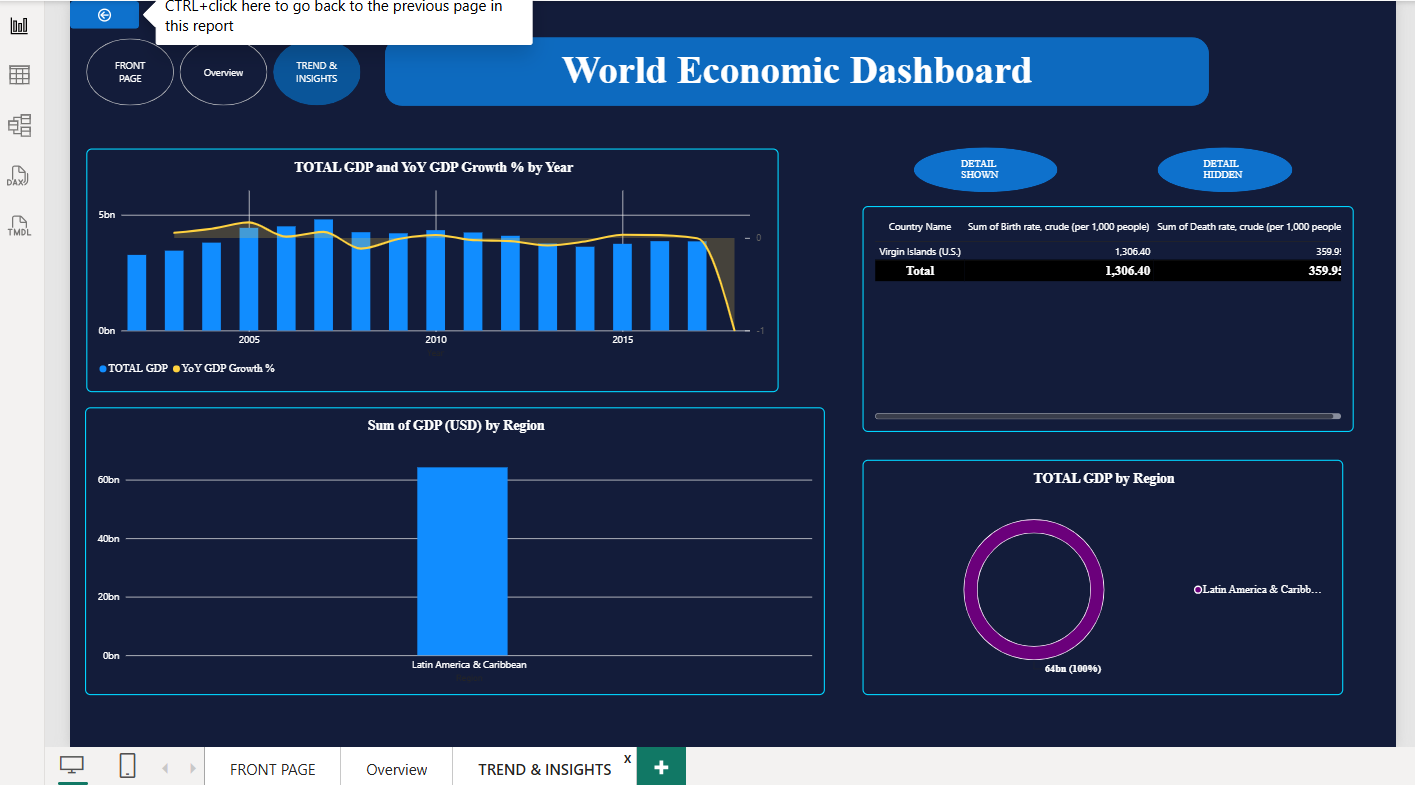

This screenshot's page, from the dashboard's own definition file:
{"tool":"powerbi","page":{"name":"TREND & INSIGHTS","canvas":[1920,1080],"ordinal":2},"visuals":[{"type":"donutChart","fields":{"Category":["Development Indicators.Region"],"Y":["Development Indicators.TOTAL GDP"]},"box":[1147.4,663.7,696.3,340.5],"z":0},{"type":"lineStackedColumnComboChart","fields":{"Category":["Development Indicators.Year"],"Y":["Development Indicators.TOTAL GDP"],"Y2":["Development Indicators.YoY GDP Growth %"]},"box":[23.5,213.5,1002.6,352.9],"z":1000},{"type":"clusteredColumnChart","fields":{"Category":["Development Indicators.Region Hierarchy.Region","Development Indicators.Region Hierarchy.Country Name"],"Y":["Sum(Development Indicators.GDP (USD))"]},"box":[21.7,587.8,1071.5,416.5],"z":2000},{"type":"pageNavigator","box":[23.5,54.3,399.9,97.7],"z":3000},{"type":"shape","box":[455.2,52.3,1193,99.4],"z":4000},{"type":"textbox","box":[455.2,68,1193,83.7],"z":5000},{"type":"tableEx","fields":{"Values":["Development Indicators.Country Name","Sum(Development Indicators.Birth rate, crude (per 1,000 people))","Sum(Development Indicators.Death rate, crude (per 1,000 people))"]},"box":[1147.4,297.2,711.4,327.5],"z":6000},{"type":"actionButton","box":[1221.2,212.6,208.2,65.1],"z":6001},{"type":"actionButton","box":[1575.2,212.3,195.5,65.2],"z":6002},{"type":"actionButton","box":[0,0,100,40],"z":6003}]}

Visuals, with their boxes on the page's 1920x1080 design canvas (x1, y1, x2, y2). These are canvas units, not pixel positions in the 1415x785 screenshot, which may show the page scaled, cropped or inside an application window:
donutChart - Development Indicators.Region x Development Indicators.TOTAL GDP: (left=1147, top=664, right=1844, bottom=1004)
lineStackedColumnComboChart - Development Indicators.Year x Development Indicators.TOTAL GDP: (left=24, top=214, right=1026, bottom=566)
clusteredColumnChart - Development Indicators.Region Hierarchy.Region x Development Indicators.Region Hierarchy.Country Name: (left=22, top=588, right=1093, bottom=1004)
pageNavigator: (left=24, top=54, right=423, bottom=152)
shape: (left=455, top=52, right=1648, bottom=152)
textbox: (left=455, top=68, right=1648, bottom=152)
tableEx - Development Indicators.Country Name x Sum(Development Indicators.Birth rate, crude (per 1,000 people)): (left=1147, top=297, right=1859, bottom=625)
actionButton: (left=1221, top=213, right=1429, bottom=278)
actionButton: (left=1575, top=212, right=1771, bottom=278)
actionButton: (left=0, top=0, right=100, bottom=40)
